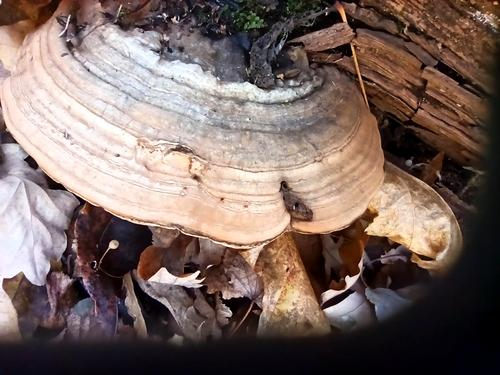Ganoderma - Fruit Body: (3, 22, 386, 249)
